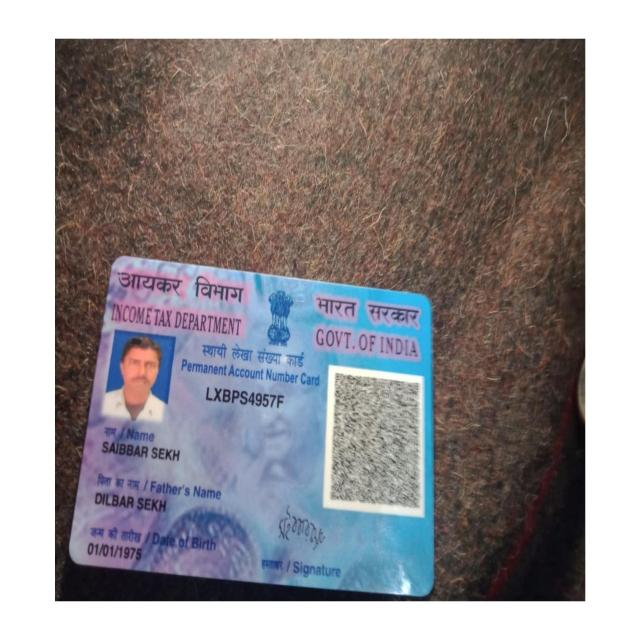pan_card: (70, 257, 429, 594)
